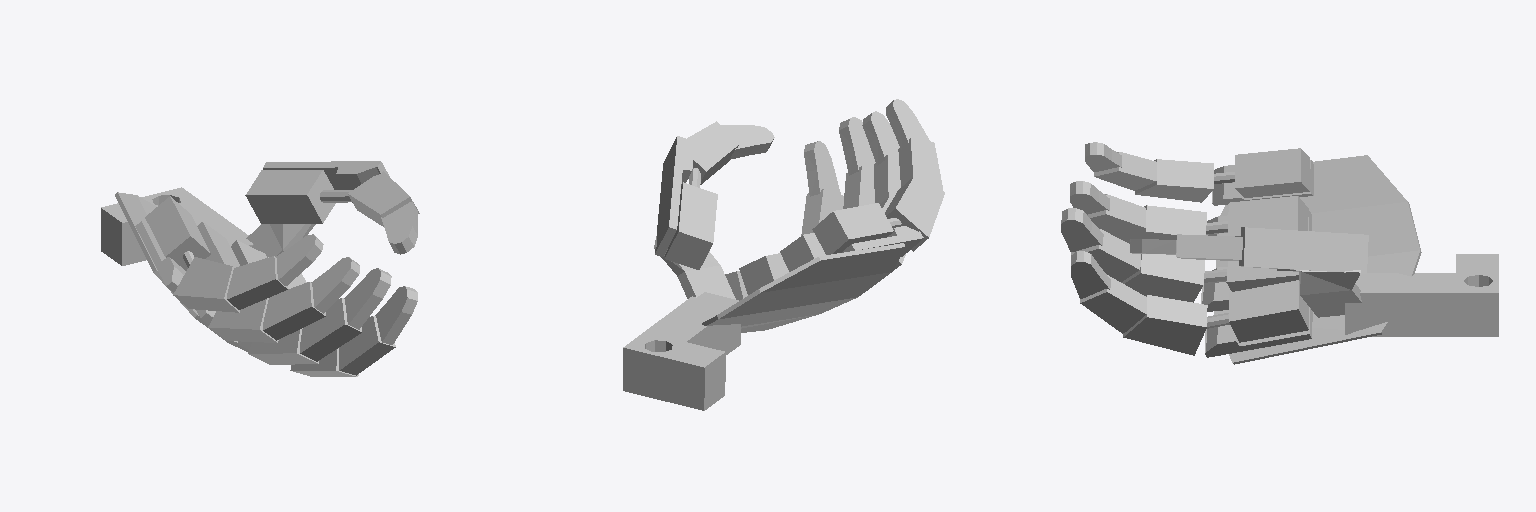
File: L_WAA.obj
The picture shows the model from 3 angles: view 1: azimuth 30°, elevation 25°; view 2: azimuth 150°, elevation 25°; view 3: azimuth 270°, elevation 25°; orthographic projection.
Visible parts, largest first — view 1: R_WAA.5_ShapeIndexedFaceS.060, R_WAA.4_ShapeIndexedFaceS.059, R_WAA.6_ShapeIndexedFaceS.061, R_WAA.3_ShapeIndexedFaceS.058, R_WAA.10_ShapeIndexedFaceS.065, R_WAA.1_ShapeIndexedFaceS.057, R_WAA.9_ShapeIndexedFaceS.064, R_WAA.11_ShapeIndexedFaceS.066, R_WAA.14_ShapeIndexedFaceS.070, R_WAA.7_ShapeIndexedFaceS.062, R_WAA.8_ShapeIndexedFaceS.063, R_WAA.2_ShapeIndexedFaceS.069; view 2: R_WAA.1_ShapeIndexedFaceS.057, R_WAA.2_ShapeIndexedFaceS.069, R_WAA.3_ShapeIndexedFaceS.058, R_WAA.6_ShapeIndexedFaceS.061, R_WAA.5_ShapeIndexedFaceS.060, R_WAA.10_ShapeIndexedFaceS.065, R_WAA.11_ShapeIndexedFaceS.066, R_WAA.4_ShapeIndexedFaceS.059, R_WAA.9_ShapeIndexedFaceS.064, R_WAA.14_ShapeIndexedFaceS.070, R_WAA.8_ShapeIndexedFaceS.063, R_WAA.7_ShapeIndexedFaceS.062; view 3: R_WAA.2_ShapeIndexedFaceS.069, R_WAA.3_ShapeIndexedFaceS.058, R_WAA.4_ShapeIndexedFaceS.059, R_WAA.1_ShapeIndexedFaceS.057, R_WAA.5_ShapeIndexedFaceS.060, R_WAA.11_ShapeIndexedFaceS.066, R_WAA.6_ShapeIndexedFaceS.061, R_WAA.7_ShapeIndexedFaceS.062, R_WAA.14_ShapeIndexedFaceS.070, R_WAA.9_ShapeIndexedFaceS.064, R_WAA.12_ShapeIndexedFaceS.067, R_WAA.8_ShapeIndexedFaceS.063.
Part boxes in pixels (left/top/right/bottom): R_WAA.5_ShapeIndexedFaceS.060: left=227, top=256, right=395, bottom=375; R_WAA.4_ShapeIndexedFaceS.059: left=173, top=257, right=358, bottom=376; R_WAA.6_ShapeIndexedFaceS.061: left=276, top=234, right=417, bottom=344; R_WAA.3_ShapeIndexedFaceS.058: left=145, top=196, right=306, bottom=288; R_WAA.10_ShapeIndexedFaceS.065: left=245, top=170, right=335, bottom=223; R_WAA.1_ShapeIndexedFaceS.057: left=101, top=187, right=253, bottom=265; R_WAA.9_ShapeIndexedFaceS.064: left=348, top=171, right=419, bottom=226; R_WAA.11_ShapeIndexedFaceS.066: left=263, top=161, right=389, bottom=202; R_WAA.14_ShapeIndexedFaceS.070: left=246, top=224, right=315, bottom=257; R_WAA.7_ShapeIndexedFaceS.062: left=135, top=221, right=291, bottom=365; R_WAA.8_ShapeIndexedFaceS.063: left=381, top=201, right=417, bottom=254; R_WAA.2_ShapeIndexedFaceS.069: left=115, top=192, right=248, bottom=351; R_WAA.1_ShapeIndexedFaceS.057: left=623, top=292, right=740, bottom=410; R_WAA.2_ShapeIndexedFaceS.069: left=702, top=243, right=904, bottom=332; R_WAA.3_ShapeIndexedFaceS.058: left=725, top=203, right=893, bottom=300; R_WAA.6_ShapeIndexedFaceS.061: left=804, top=99, right=930, bottom=196; R_WAA.5_ShapeIndexedFaceS.060: left=801, top=138, right=942, bottom=235; R_WAA.10_ShapeIndexedFaceS.065: left=665, top=182, right=717, bottom=269; R_WAA.11_ShapeIndexedFaceS.066: left=655, top=136, right=693, bottom=256; R_WAA.4_ShapeIndexedFaceS.059: left=880, top=176, right=944, bottom=270; R_WAA.9_ShapeIndexedFaceS.064: left=686, top=121, right=738, bottom=184; R_WAA.14_ShapeIndexedFaceS.070: left=654, top=236, right=735, bottom=299; R_WAA.8_ShapeIndexedFaceS.063: left=720, top=125, right=774, bottom=159; R_WAA.7_ShapeIndexedFaceS.062: left=842, top=226, right=923, bottom=256; R_WAA.2_ShapeIndexedFaceS.069: left=1214, top=155, right=1421, bottom=364; R_WAA.3_ShapeIndexedFaceS.058: left=1226, top=148, right=1310, bottom=342; R_WAA.4_ShapeIndexedFaceS.059: left=1121, top=159, right=1213, bottom=355; R_WAA.1_ShapeIndexedFaceS.057: left=1345, top=254, right=1498, bottom=336; R_WAA.5_ShapeIndexedFaceS.060: left=1071, top=152, right=1156, bottom=333; R_WAA.11_ShapeIndexedFaceS.066: left=1239, top=227, right=1368, bottom=273; R_WAA.6_ShapeIndexedFaceS.061: left=1061, top=142, right=1121, bottom=298; R_WAA.7_ShapeIndexedFaceS.062: left=1201, top=160, right=1313, bottom=357; R_WAA.14_ShapeIndexedFaceS.070: left=1299, top=270, right=1361, bottom=317; R_WAA.9_ShapeIndexedFaceS.064: left=1176, top=234, right=1242, bottom=260; R_WAA.12_ShapeIndexedFaceS.067: left=1204, top=172, right=1234, bottom=328; R_WAA.8_ShapeIndexedFaceS.063: left=1130, top=239, right=1176, bottom=254.
Size of the model in its own units: 4.15 by 3.13 by 6.4.